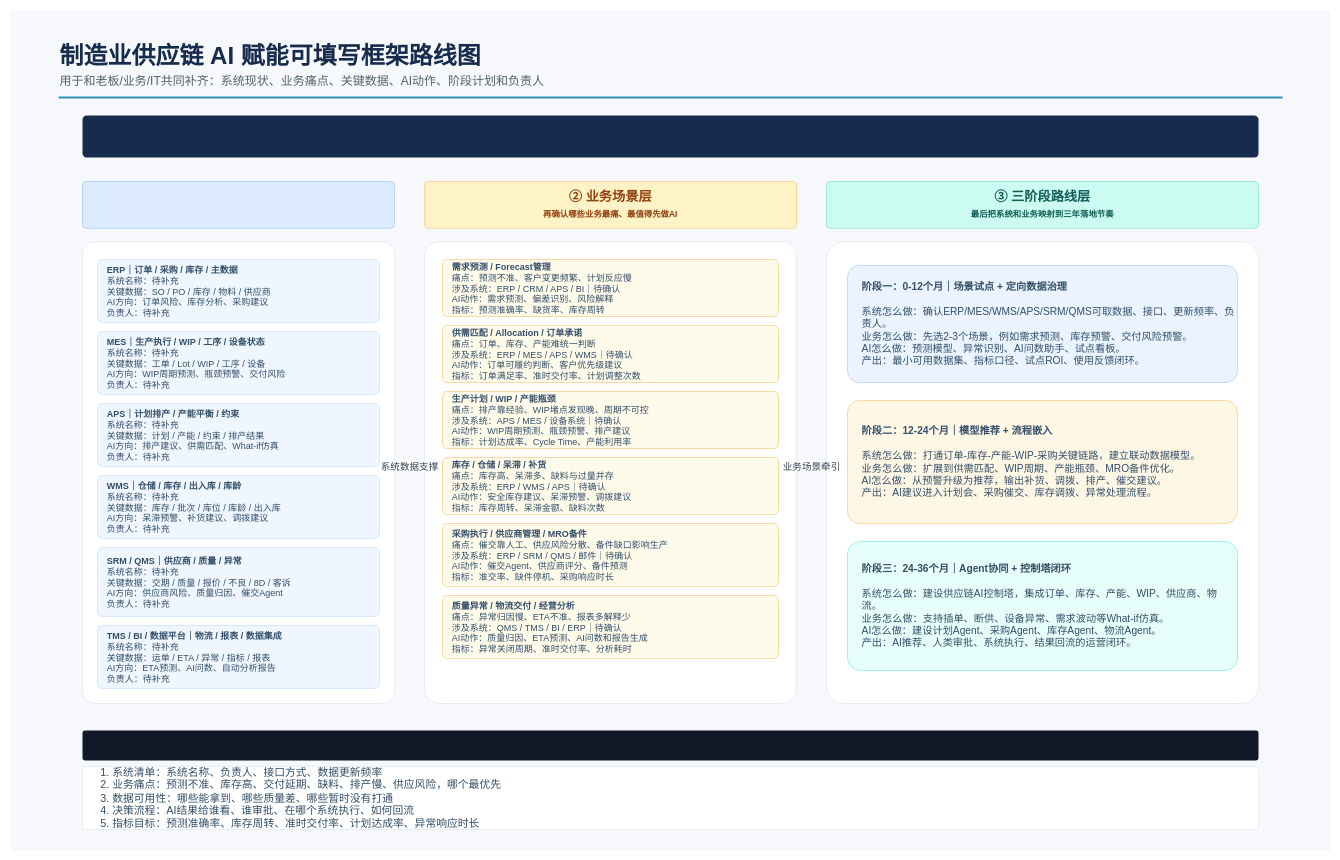
Some shapes in this 1340 by 860 pixel diagram are drawn without their labels. Each missing label, with the centre of its shape:
"① 系统盘点层 先确认有哪些系统、谁负责、能取哪些数据" belongs at [238,204].
"推进原则：不等待全量数据治理完成，而是以业务场景牵引数据治理。每个试点都要明确：用哪个系统数据、解决哪个业务痛点、AI给出什么动作、谁审批执行、结果如何回流。" belongs at [670,136].
"明天会议需要补齐的关键信息" belongs at [670,745].
